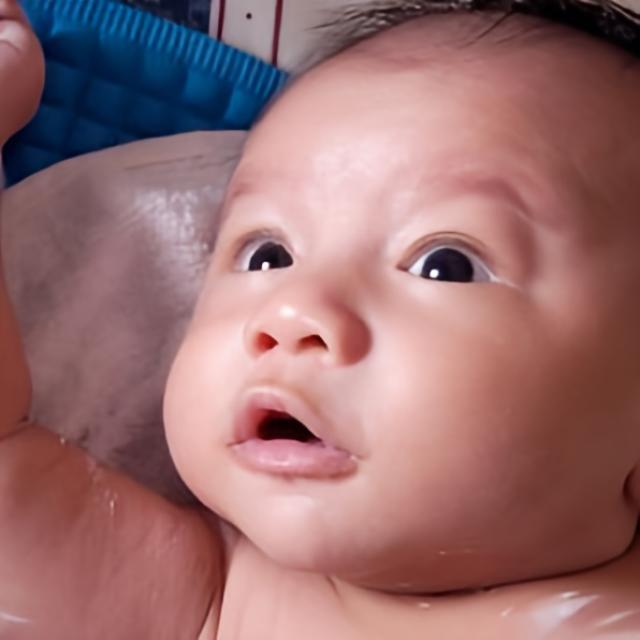surprise: (159, 4, 623, 586)
